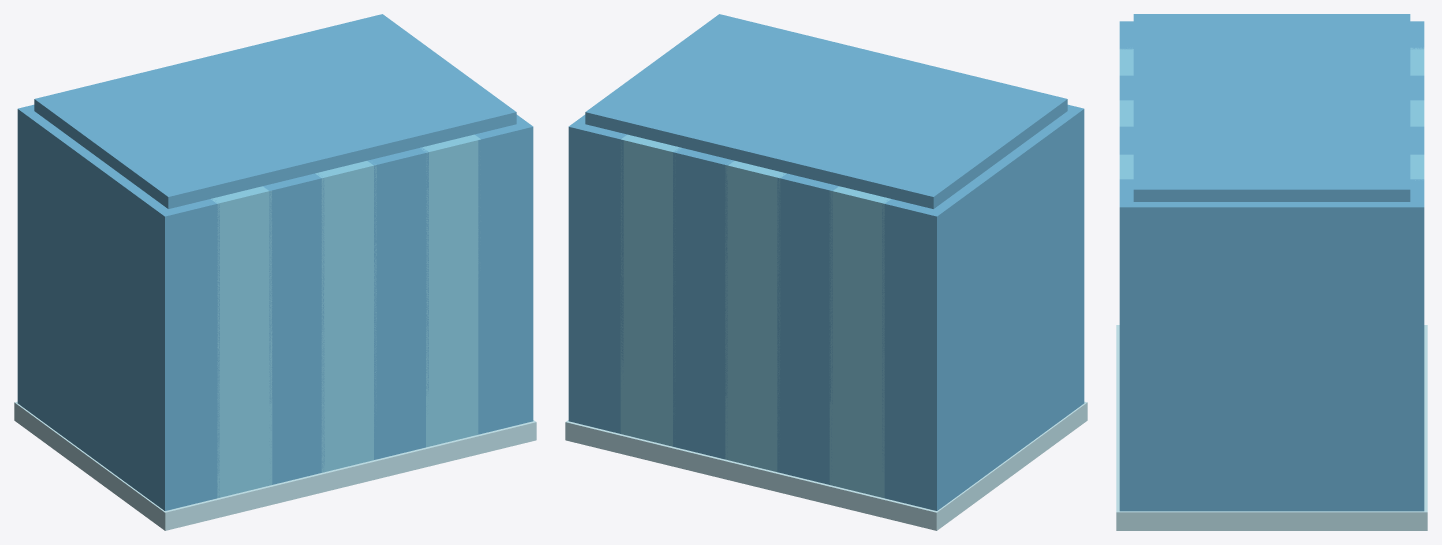
File: samurai_espectral_saia.glb
3 views of the same model, side by side, from view 1: azimuth 30°, elevation 25°; view 2: azimuth 150°, elevation 25°; view 3: azimuth 270°, elevation 25° (orthographic). The views are drawn at different scales.
Visible parts, largest first — view 1: samurai_espectral_saia; view 2: samurai_espectral_saia; view 3: samurai_espectral_saia.
Part boxes in pixels (x1=…): samurai_espectral_saia: x1=14, y1=14, x2=536, y2=530; samurai_espectral_saia: x1=565, y1=14, x2=1087, y2=530; samurai_espectral_saia: x1=1116, y1=14, x2=1427, y2=530.
Size of the model in its own units: 0.64 by 0.535 by 0.45.
